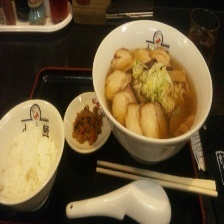rice: (0, 123, 63, 206)
